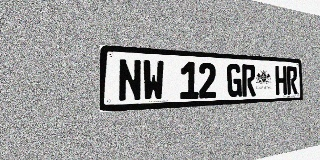1: (180, 61, 199, 99)
2: (199, 62, 216, 99)
G: (227, 63, 242, 97)
H: (275, 66, 287, 95)
N: (118, 58, 142, 102)
R: (242, 64, 256, 97), (287, 66, 298, 95)
W: (142, 60, 164, 101)
